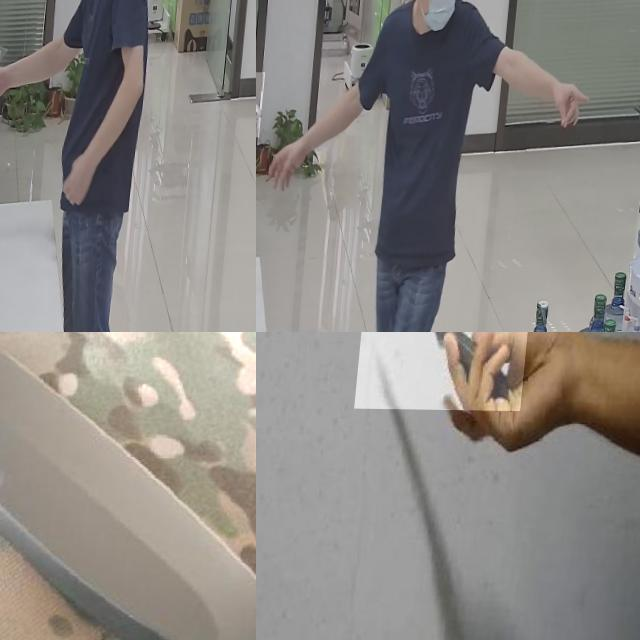-: (0, 332, 256, 640), (360, 332, 538, 412)
gun-knife-thesis - v11 Yolov5 augmented: (256, 71, 279, 136), (0, 49, 14, 105)
